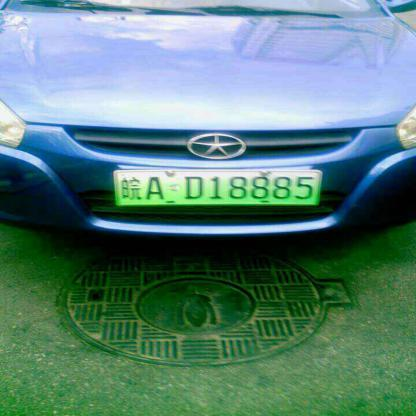lp: (113, 168, 322, 206)
